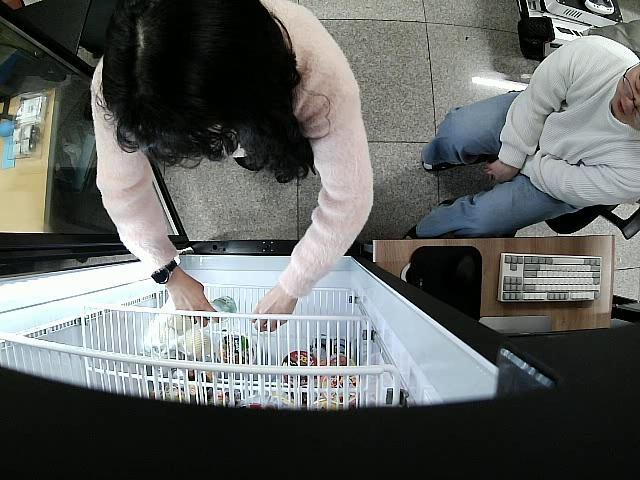18_trevi: (204, 296, 237, 324)
